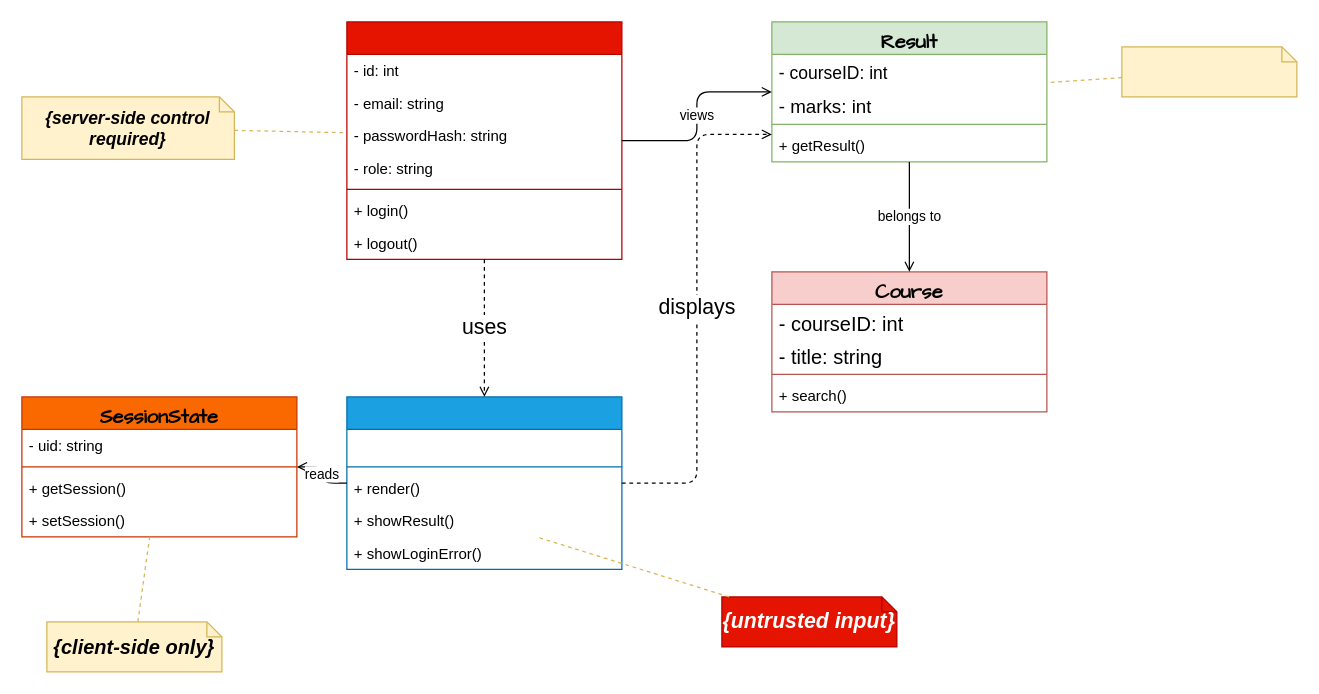
This 1319x694 diagram has some shape labels left out. The box of each missing label's shape, as (x1, y1, x2, y2) in pixels:
PortalUI: (346, 396, 622, 569)
User: (346, 21, 622, 259)
{synthetic data}: (1121, 46, 1297, 97)
